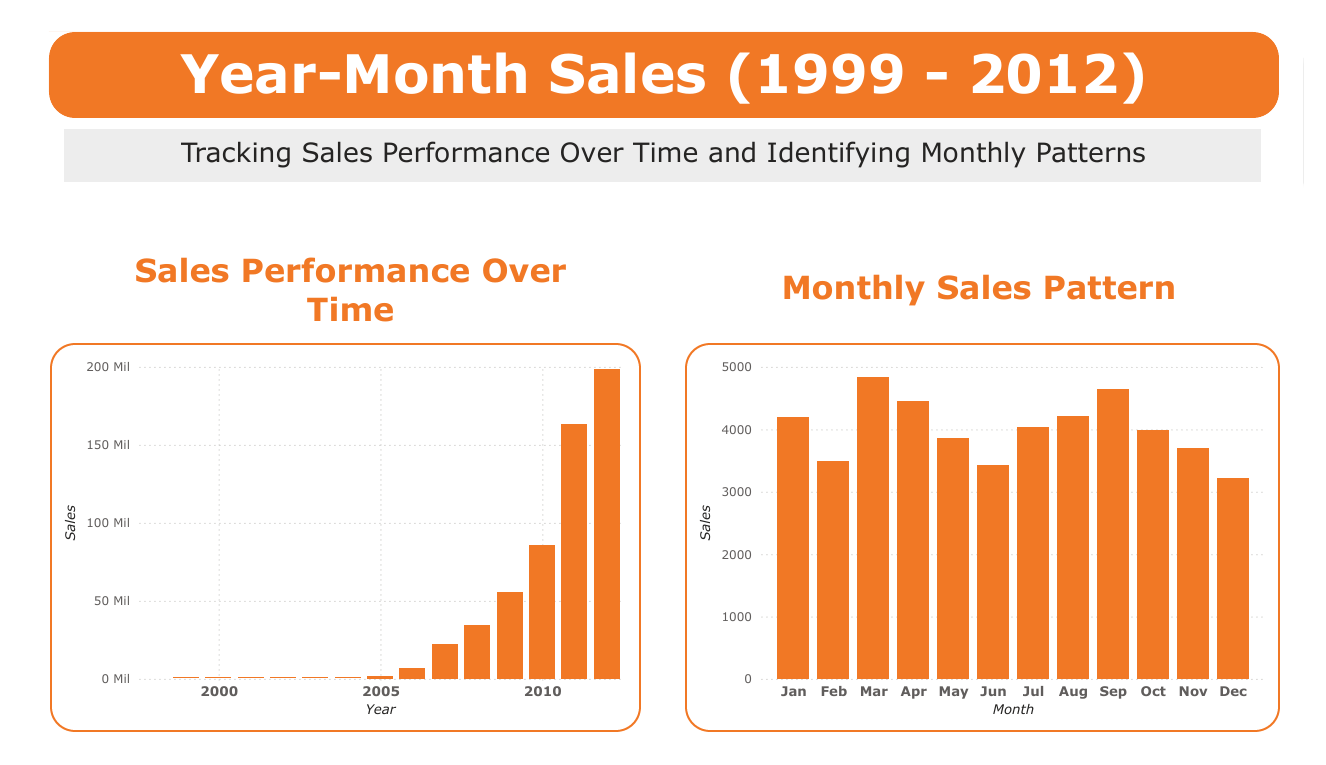

The dashboard page shown, as its layout file describes it:
{"tool":"powerbi","page":{"name":"Year-Month Sales","canvas":[1280,720],"ordinal":2},"visuals":[{"type":"shape","box":[25,8.8,1230,86.2],"z":0},{"type":"textbox","box":[41.1,11.1,1197.8,82.2],"z":1000},{"type":"columnChart","fields":{"Category":["Reviews_ymsales.Year"],"Y":["Sum(Reviews_ymsales.Sales)"]},"box":[25.7,320,591.4,388.6],"z":2000},{"type":"columnChart","fields":{"Y":["Avg(Reviews_ymsales.Sales)"],"Category":["Reviews_ymsales.MonthName"]},"box":[661.2,320,595,388.8],"z":3000},{"type":"textbox","box":[40.7,106.9,1197.5,53.4],"z":4000},{"type":"textbox","box":[70.9,221.9,511.1,88.3],"z":5000},{"type":"textbox","box":[683,239.3,543.6,53.4],"z":6000}]}

Visuals, with their boxes in screenshot pixels (x1, y1, x2, y2), scaled from the page's 1280x720 canvas onto the 1326x765 screenshot:
shape: x1=26, y1=9, x2=1300, y2=101
textbox: x1=43, y1=12, x2=1283, y2=99
columnChart - Reviews_ymsales.Year x Sum(Reviews_ymsales.Sales): x1=27, y1=340, x2=639, y2=753
columnChart - Avg(Reviews_ymsales.Sales) x Reviews_ymsales.MonthName: x1=685, y1=340, x2=1301, y2=753
textbox: x1=42, y1=114, x2=1283, y2=170
textbox: x1=73, y1=236, x2=603, y2=330
textbox: x1=708, y1=254, x2=1271, y2=311
